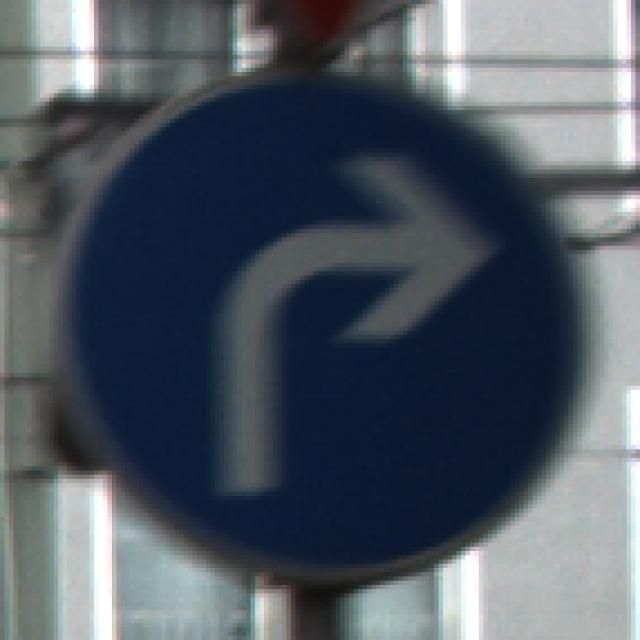compulsary turn right ahead: (68, 75, 580, 570)
